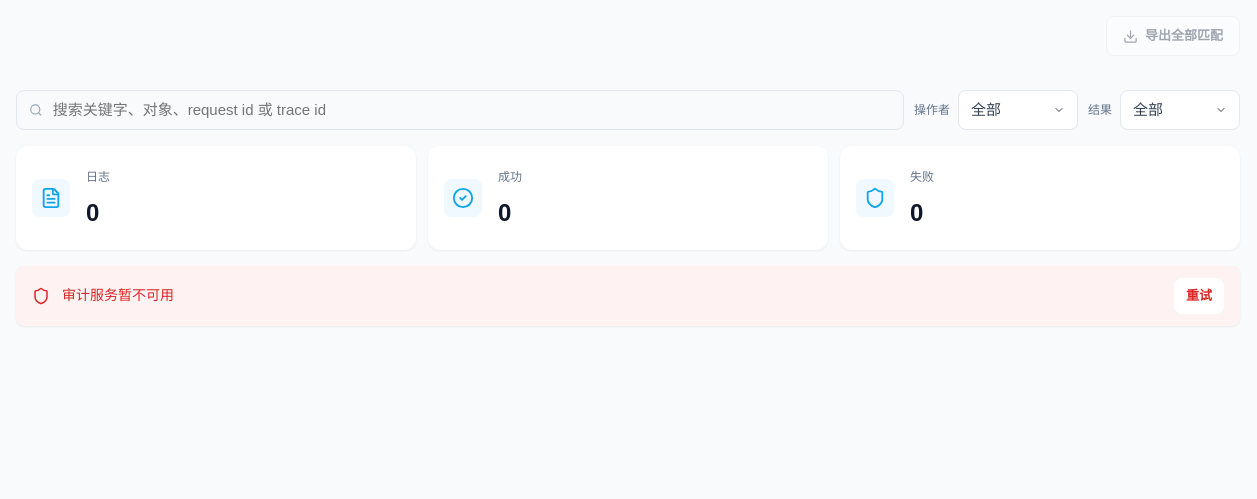
Test: audit real backend › renders a retryable initial error without a false empty state
Expected: the text "审计服务暂不可用" is shown, [62, 285, 174, 306]
Expected: the text "没有匹配的真实审计日志，系统将继续自动查询" is not shown
Step 1. Click the button "重试" → point(1199, 296), box [1174, 278, 1224, 314]
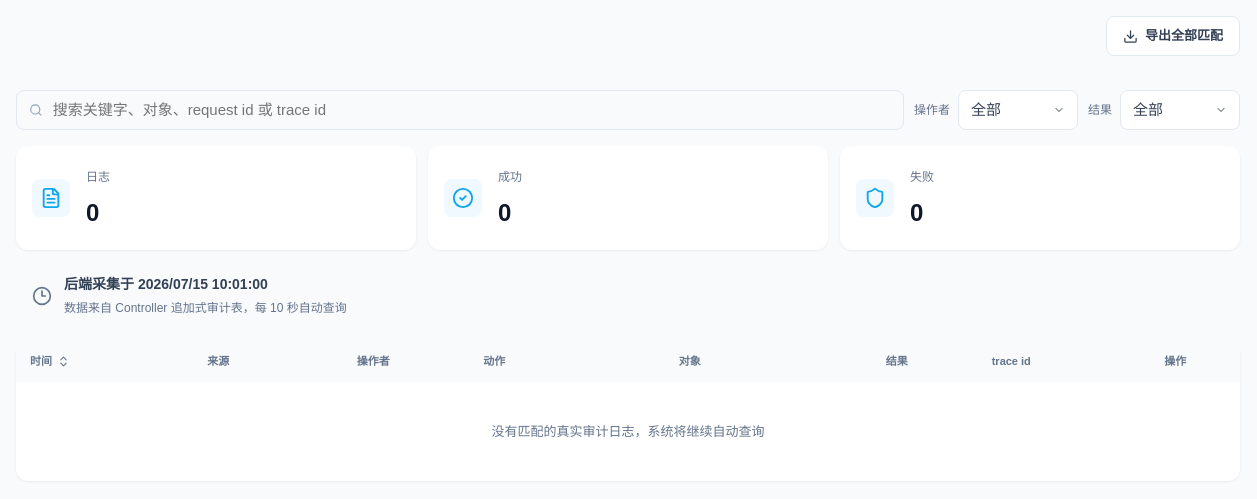
Expected: the text "没有匹配的真实审计日志，系统将继续自动查询" is shown, [16, 382, 1240, 481]
